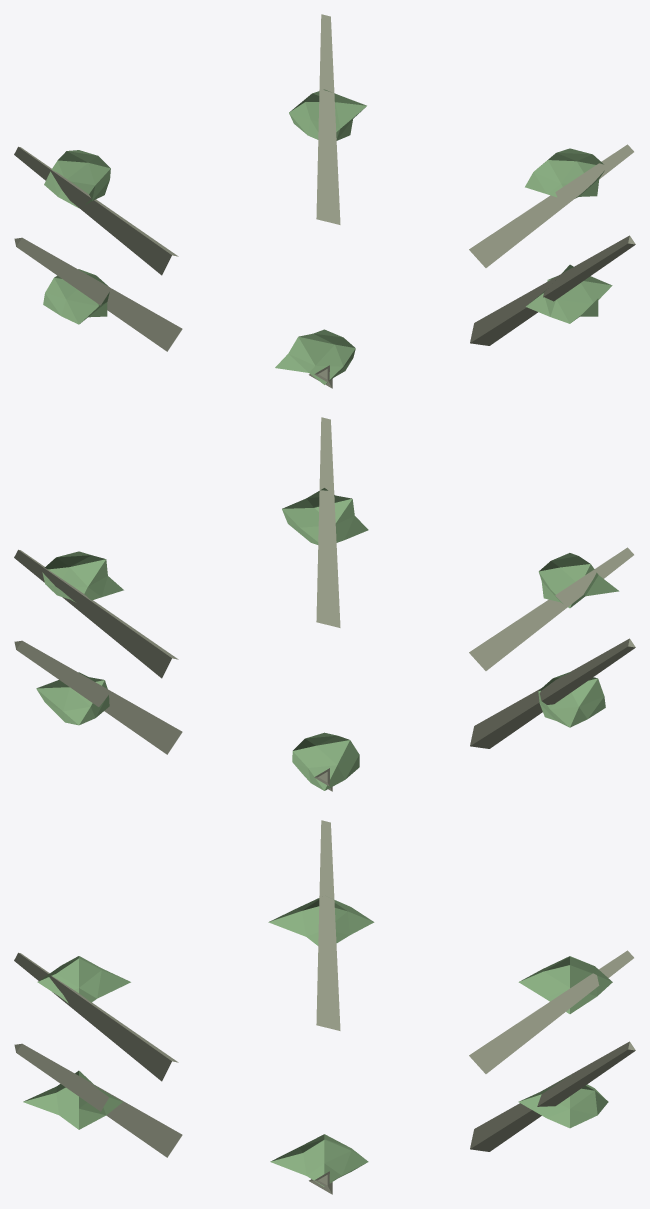
Rendered from bramble_v19.glb.
3 renders of one model, top to bottom at view 1: azimuth 30°, elevation 25°; view 2: azimuth 150°, elevation 25°; view 3: azimuth 270°, elevation 25°, orthographic.
Parts seen in each view (by area): view 1: lod0; view 2: lod0; view 3: lod0.
Boxes of the visible parts, x1=… form: lod0: x1=14, y1=14, x2=635, y2=388; lod0: x1=14, y1=417, x2=635, y2=791; lod0: x1=14, y1=820, x2=635, y2=1194.
Size of what is drawn, in the model's own units: 1.11 by 0.2562 by 0.9691.
